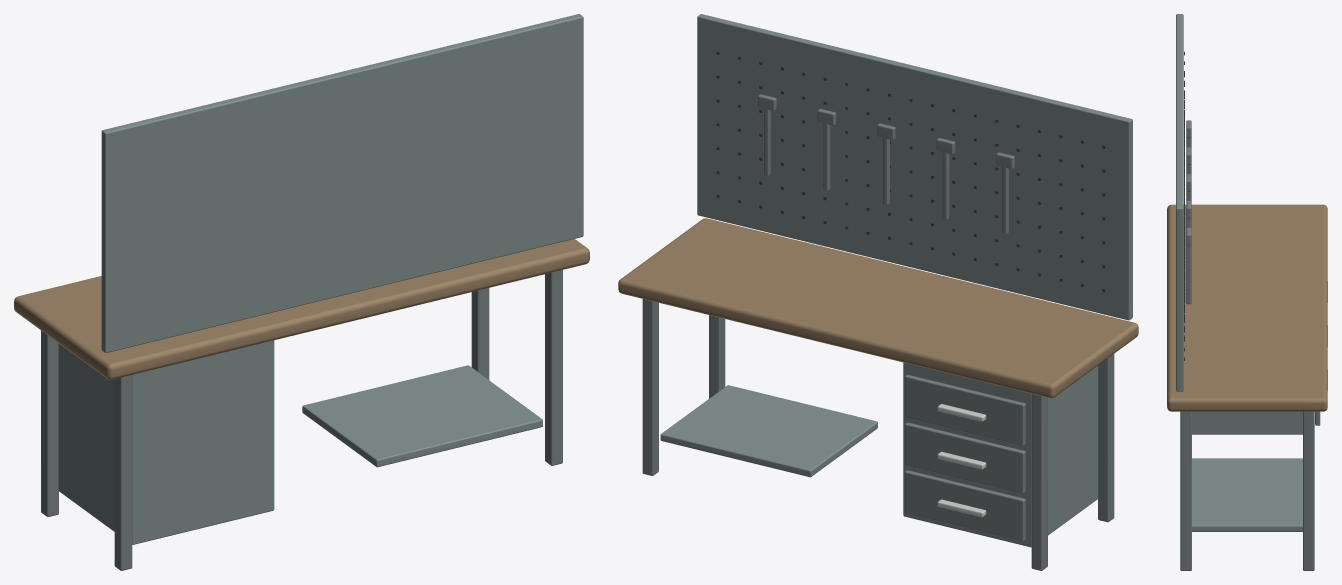
File: StationWorkbench.fbx
3 views of the same model, side by side, from view 1: azimuth 30°, elevation 25°; view 2: azimuth 150°, elevation 25°; view 3: azimuth 270°, elevation 25° (orthographic). The views are drawn at different scales.
Visible parts, largest first — view 1: StationWorkbench_Paint, StationWorkbench_Timber, StationWorkbench_Steel; view 2: StationWorkbench_Paint, StationWorkbench_Timber, StationWorkbench_Steel, StationWorkbench_Ink, StationWorkbench_Ceramic; view 3: StationWorkbench_Timber, StationWorkbench_Paint, StationWorkbench_Steel, StationWorkbench_Ink.
Boxes of the visible parts, x1,y1,x2,y2 form: StationWorkbench_Paint: (58,14,583,544); StationWorkbench_Timber: (14,239,589,379); StationWorkbench_Steel: (41,270,562,570); StationWorkbench_Paint: (660,14,1132,547); StationWorkbench_Timber: (618,218,1138,398); StationWorkbench_Steel: (642,94,1114,570); StationWorkbench_Ink: (716,51,1105,292); StationWorkbench_Ceramic: (937,404,986,517); StationWorkbench_Timber: (1167,204,1327,411); StationWorkbench_Paint: (1176,14,1302,531); StationWorkbench_Steel: (1180,120,1320,570); StationWorkbench_Ink: (1184,51,1184,360).
Bounding box in the file's own units: 220 × 194 × 76.05.
